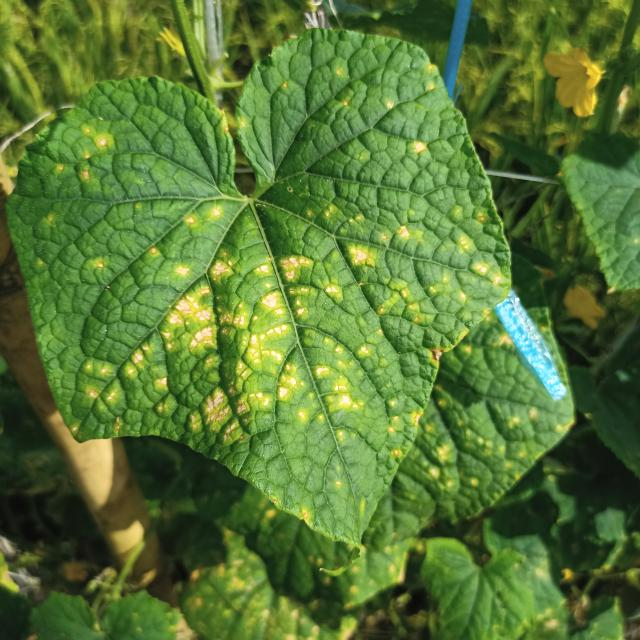disease_cucumber: (39, 61, 499, 513)
